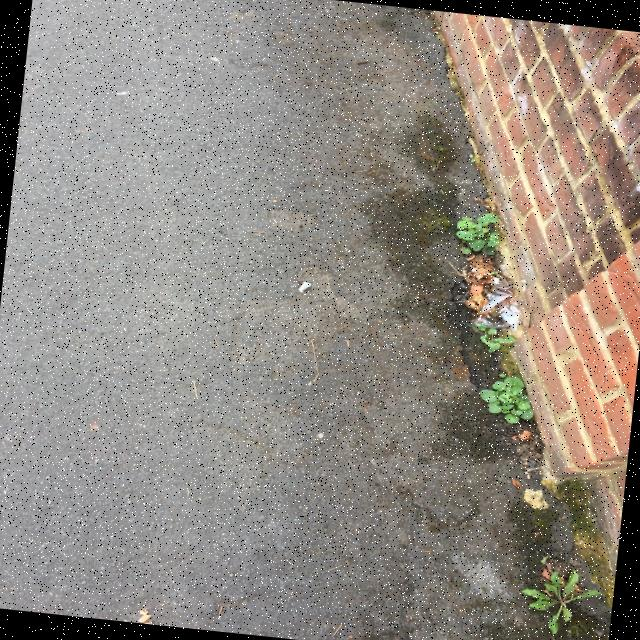Cigarette: (138, 614, 151, 623)
Plastic film: (474, 280, 526, 333)
Unlabeled litter: (298, 282, 312, 291)
